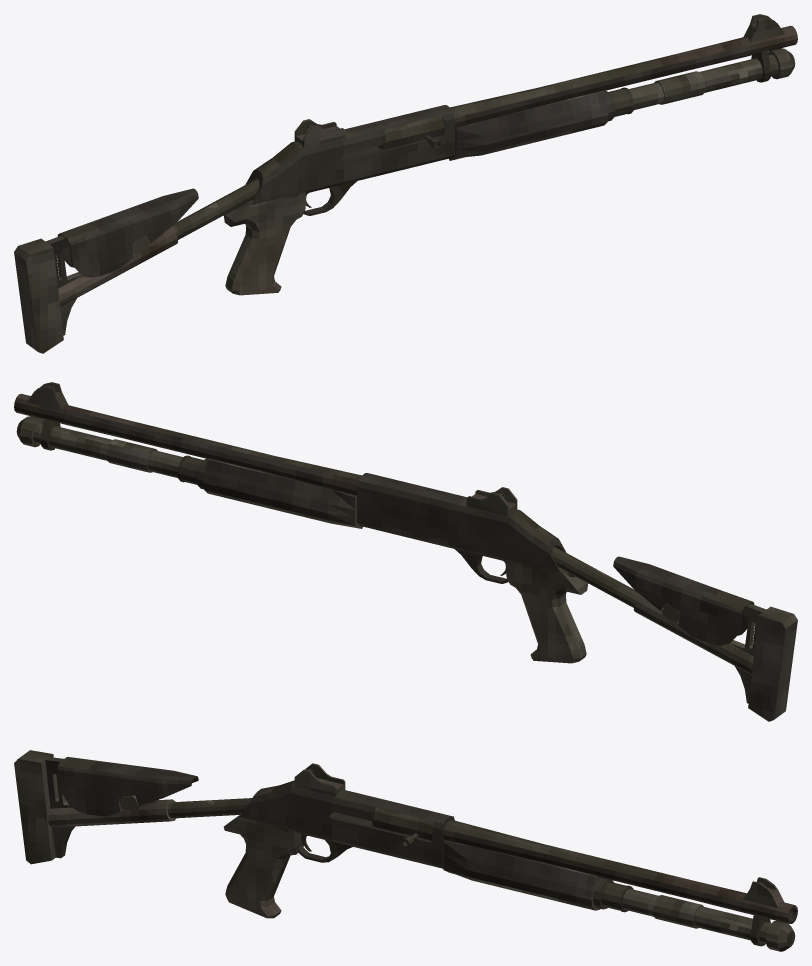
Rendered from shop-item-1066.glb.
3 renders of one model, top to bottom at view 1: azimuth 30°, elevation 25°; view 2: azimuth 150°, elevation 25°; view 3: azimuth 330°, elevation 25°, orthographic.
Visible parts, largest first — view 1: Bennelli, Pump; view 2: Bennelli, Pump; view 3: Bennelli, Pump.
Boxes of the visible parts, left/top/right/bottom form: Bennelli: left=14, top=14, right=797, bottom=353; Pump: left=377, top=90, right=608, bottom=160; Bennelli: left=14, top=382, right=797, bottom=721; Pump: left=203, top=458, right=362, bottom=528; Bennelli: left=14, top=750, right=797, bottom=951; Pump: left=372, top=807, right=601, bottom=910.
Size of the model in its own units: 7.6 by 1.5 by 0.4269.
1 material, 1 textured.
